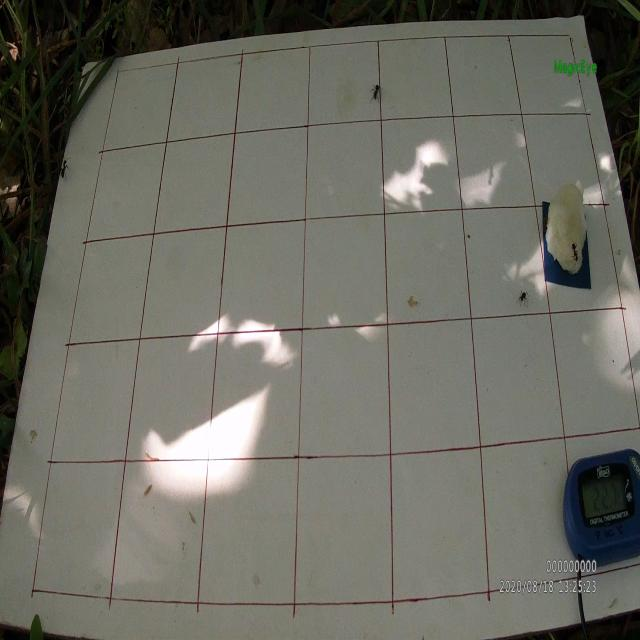Ant: (58, 153, 72, 182), (567, 237, 580, 266), (515, 289, 530, 308), (369, 84, 382, 103)
